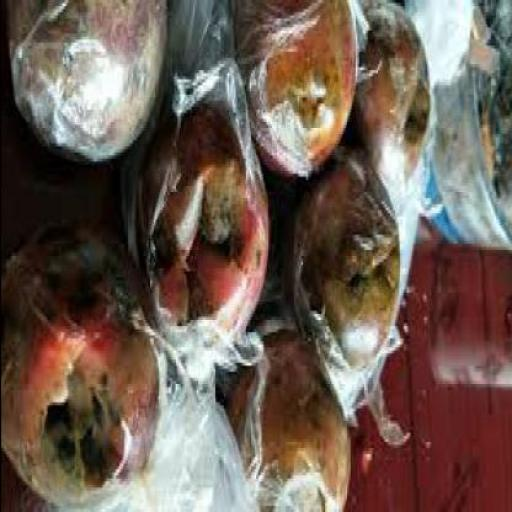biodegradable: (2, 216, 164, 509), (138, 82, 274, 351), (8, 0, 173, 159), (285, 144, 401, 368), (222, 326, 353, 508), (236, 0, 360, 177), (356, 2, 430, 192)
plastic: (12, 0, 169, 165), (132, 323, 267, 509), (238, 4, 321, 174), (166, 0, 252, 116), (339, 156, 435, 253), (332, 330, 409, 448), (405, 0, 481, 80), (290, 189, 327, 348), (19, 476, 155, 509), (347, 0, 378, 80), (356, 0, 379, 80)
